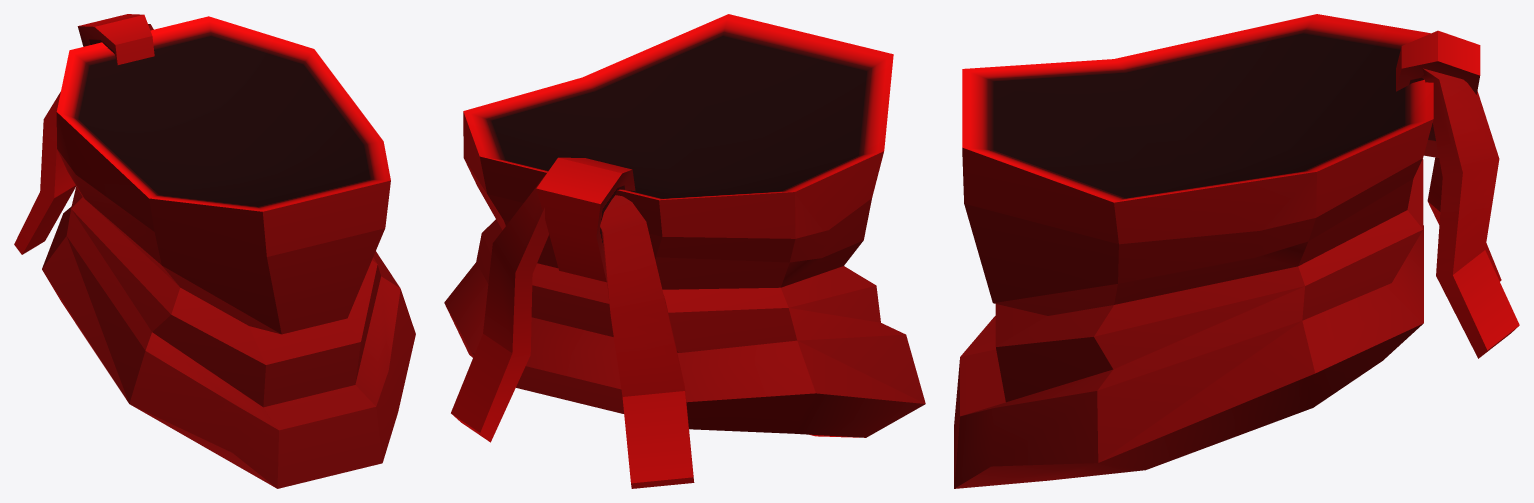
Rendered from FaceMask_F.fbx.
3 renders of one model, left to right at view 1: azimuth 30°, elevation 25°; view 2: azimuth 150°, elevation 25°; view 3: azimuth 270°, elevation 25°, orthographic. The views are drawn at different scales.
Parts seen in each view (by area): view 1: FaceMask_F, FaceMask_F_NeckWrap; view 2: FaceMask_F, FaceMask_F_NeckWrap; view 3: FaceMask_F, FaceMask_F_NeckWrap.
Part boxes in pixels (x1,y1,x2,y2): FaceMask_F: [14, 14, 390, 334]; FaceMask_F_NeckWrap: [42, 186, 415, 488]; FaceMask_F: [451, 14, 893, 488]; FaceMask_F_NeckWrap: [444, 219, 925, 437]; FaceMask_F: [962, 14, 1519, 358]; FaceMask_F_NeckWrap: [954, 159, 1423, 488].
Bounding box in the file's own units: 22.04 × 23.29 × 29.78.
